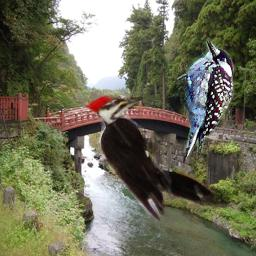Woodpecker: (82, 95, 230, 223), (163, 34, 243, 172)
